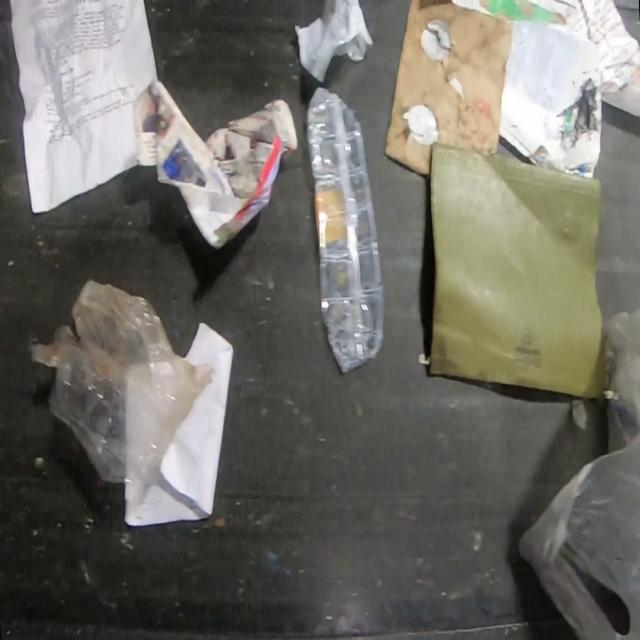cardboard: (425, 140, 601, 400), (382, 0, 513, 177)
rigid_plastic: (305, 86, 386, 373)
soft_plastic: (29, 281, 215, 505), (518, 308, 640, 639)
